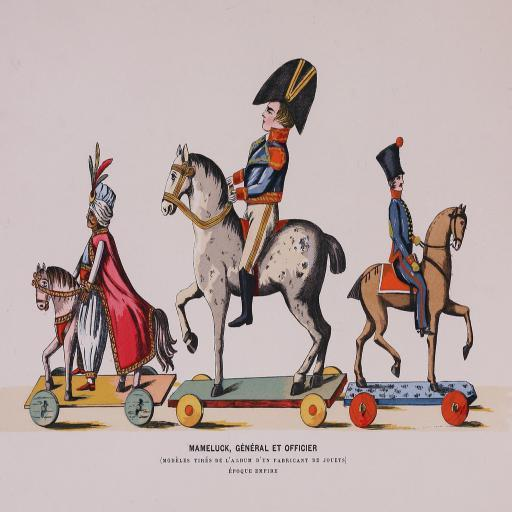Horse: (161, 142, 347, 397), (347, 204, 475, 388), (32, 264, 178, 402)
